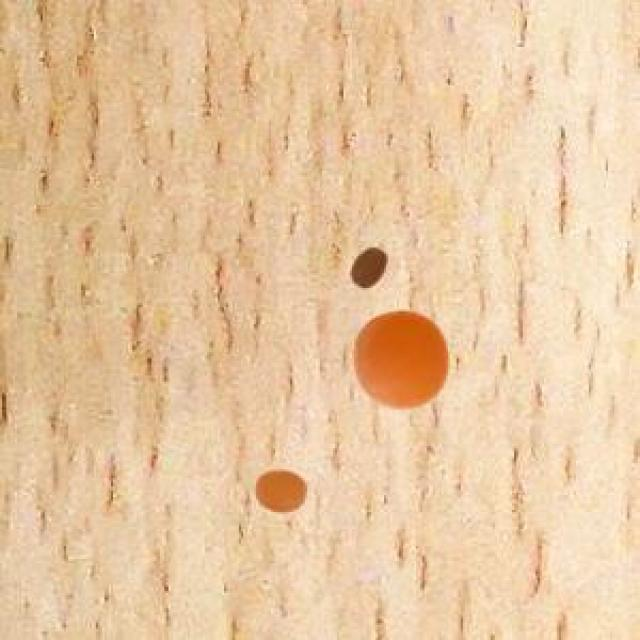Bactidol: (346, 302, 460, 416), (251, 463, 319, 518), (344, 236, 390, 296)
